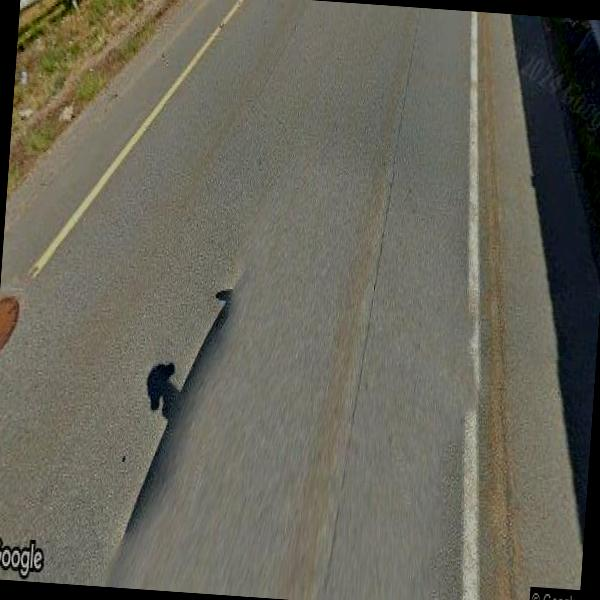manhole: (0, 289, 26, 361)
